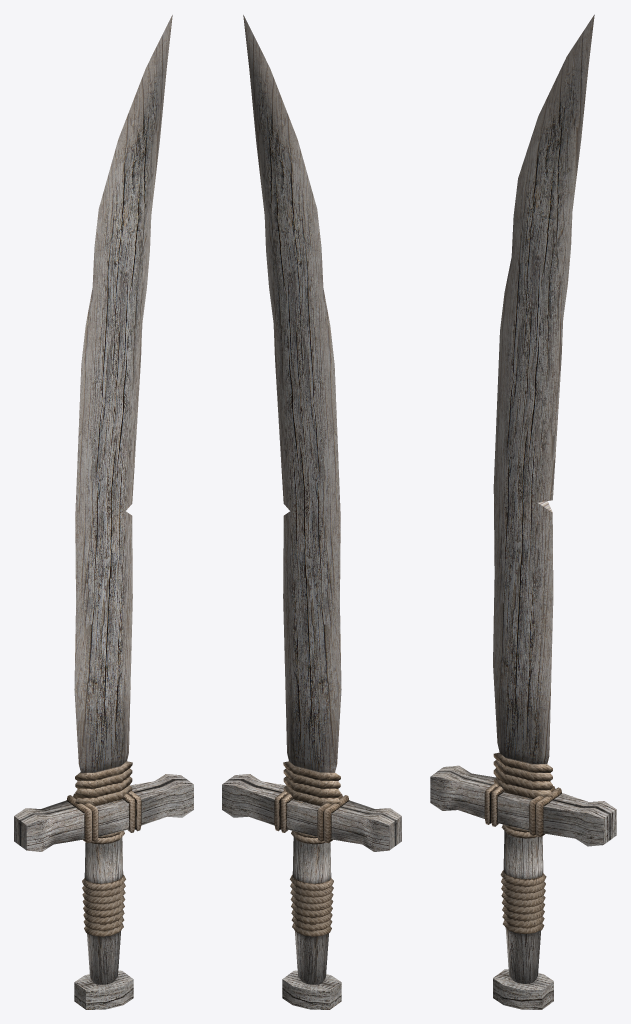
The model's file is WoodenSword.fbx.
The picture shows the model from 3 angles, left to right: view 1: azimuth 30°, elevation 25°; view 2: azimuth 150°, elevation 25°; view 3: azimuth 330°, elevation 25°; orthographic projection. The views are drawn at different scales.
Visible parts, largest first — view 1: WoodenSword; view 2: WoodenSword; view 3: WoodenSword.
Boxes of the visible parts, x1,y1,x2,y2 form: WoodenSword: [14, 15, 193, 1009]; WoodenSword: [222, 15, 401, 1009]; WoodenSword: [430, 14, 616, 1009].
Size of what is drawn, in the model's own units: 27.21 by 6.08 by 151.
